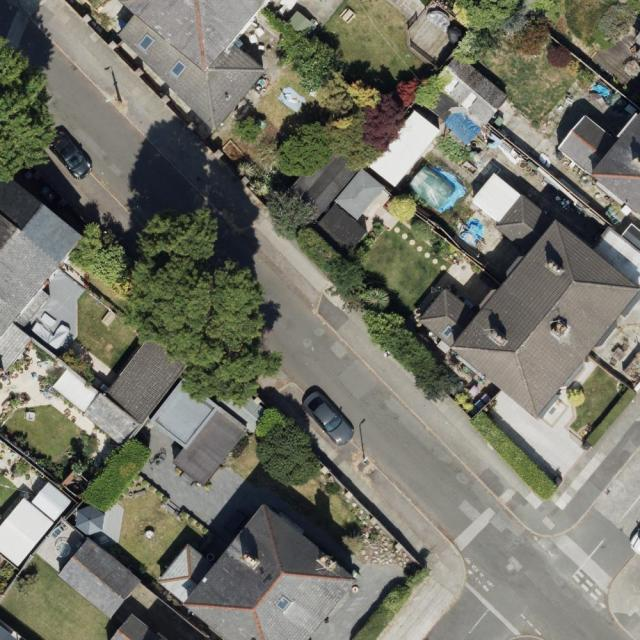roof: (414, 192, 637, 421), (154, 504, 362, 640), (84, 334, 249, 489), (113, 0, 274, 128), (0, 168, 84, 374), (551, 109, 640, 227), (57, 537, 142, 621), (105, 610, 171, 640)
skylight: (134, 31, 155, 53), (168, 58, 188, 78), (273, 592, 292, 611), (181, 578, 200, 594), (441, 324, 458, 339)
